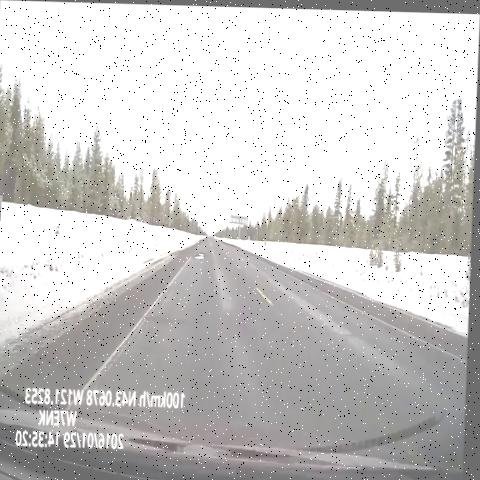pothole: (188, 246, 214, 274)
